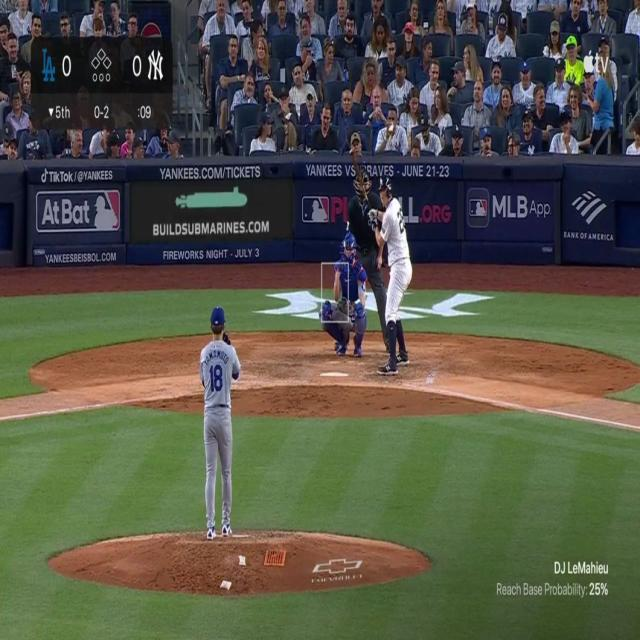Bat: (344, 140, 383, 225)
Player: (191, 298, 256, 536)
